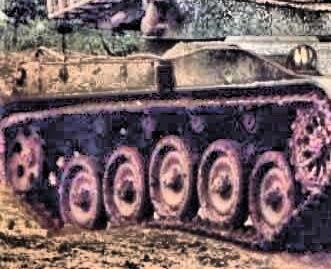tanks: (1, 1, 331, 249)
